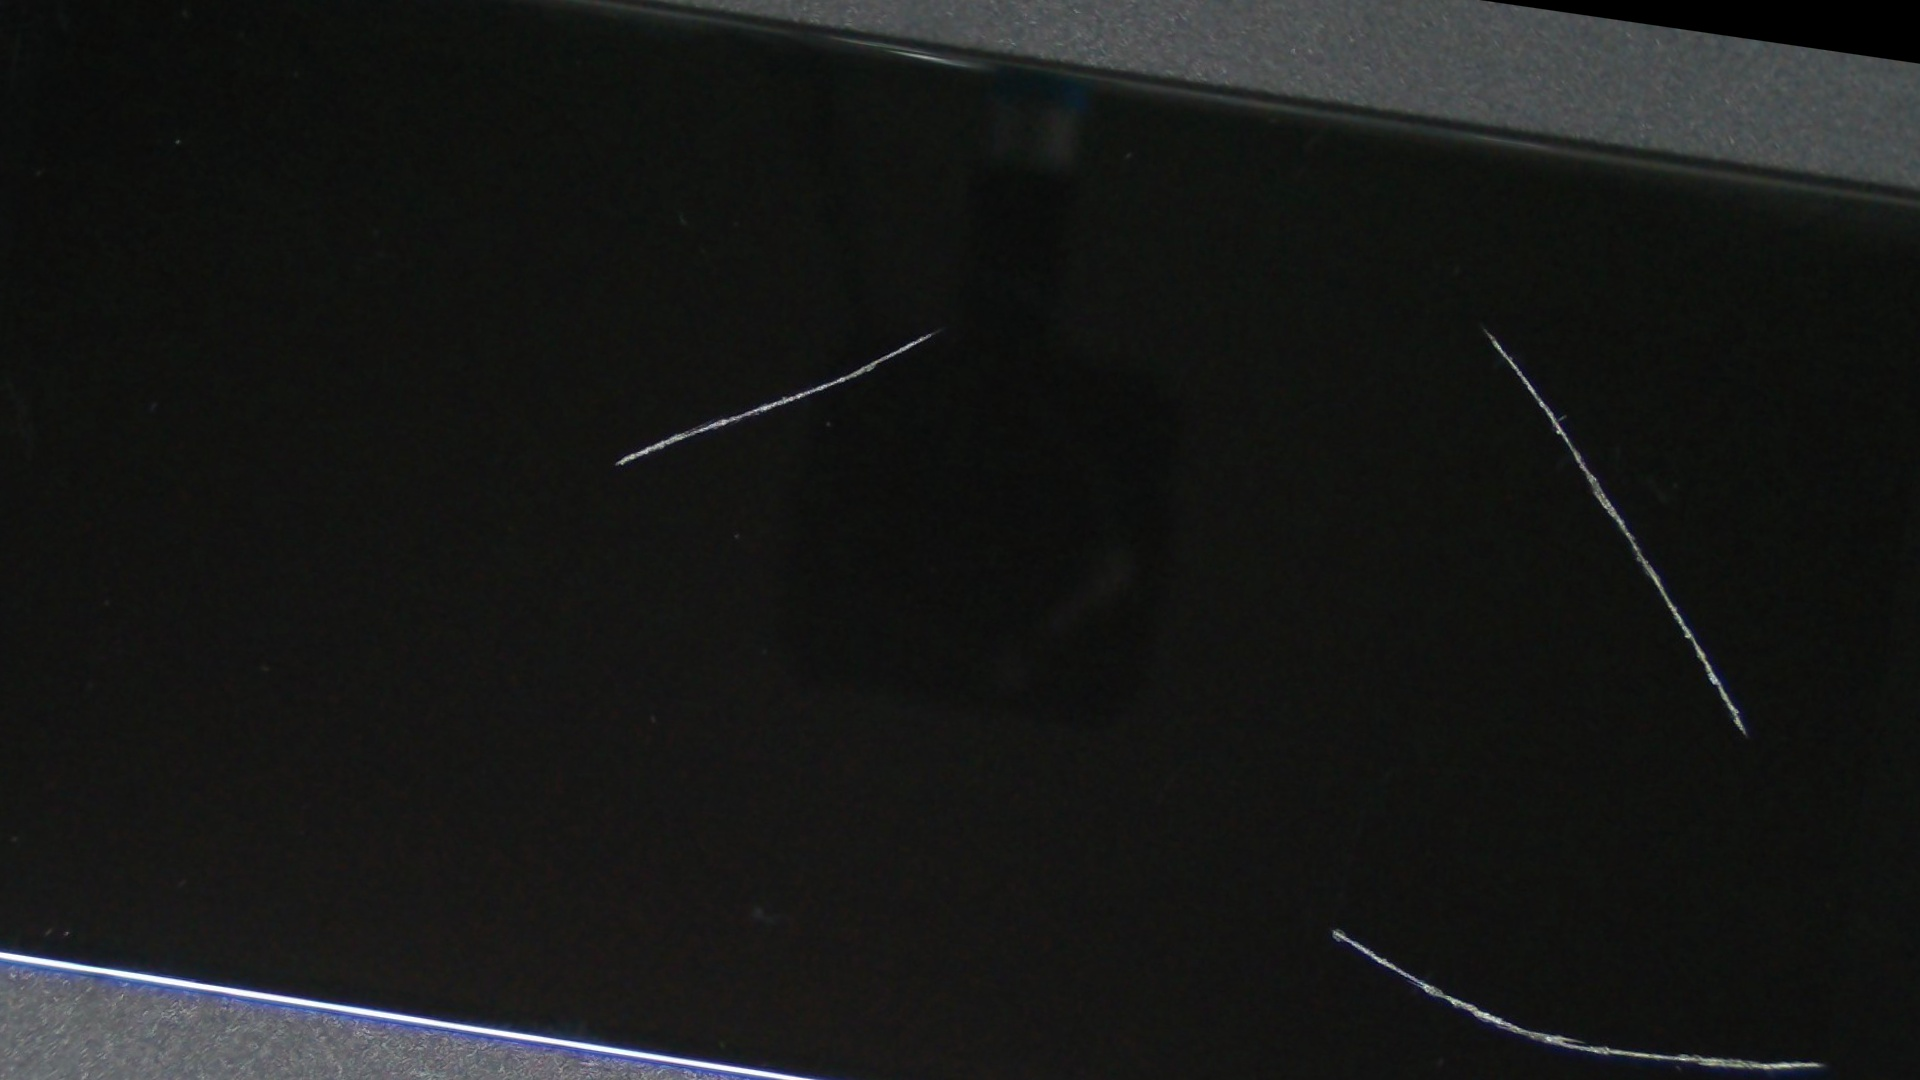oil: (516, 351, 1920, 1080), (661, 51, 1920, 575), (376, 51, 1501, 607)
